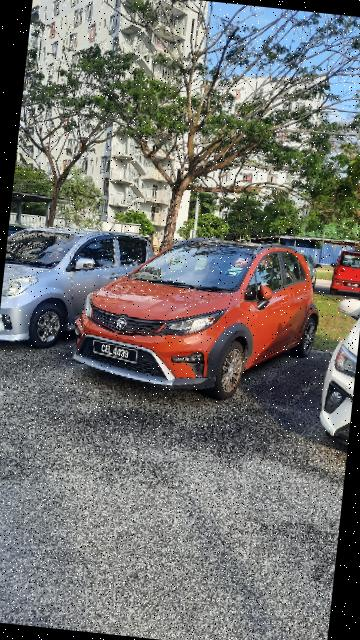License_Plate: (90, 340, 146, 368)
car: (71, 220, 330, 409), (1, 216, 158, 360)
